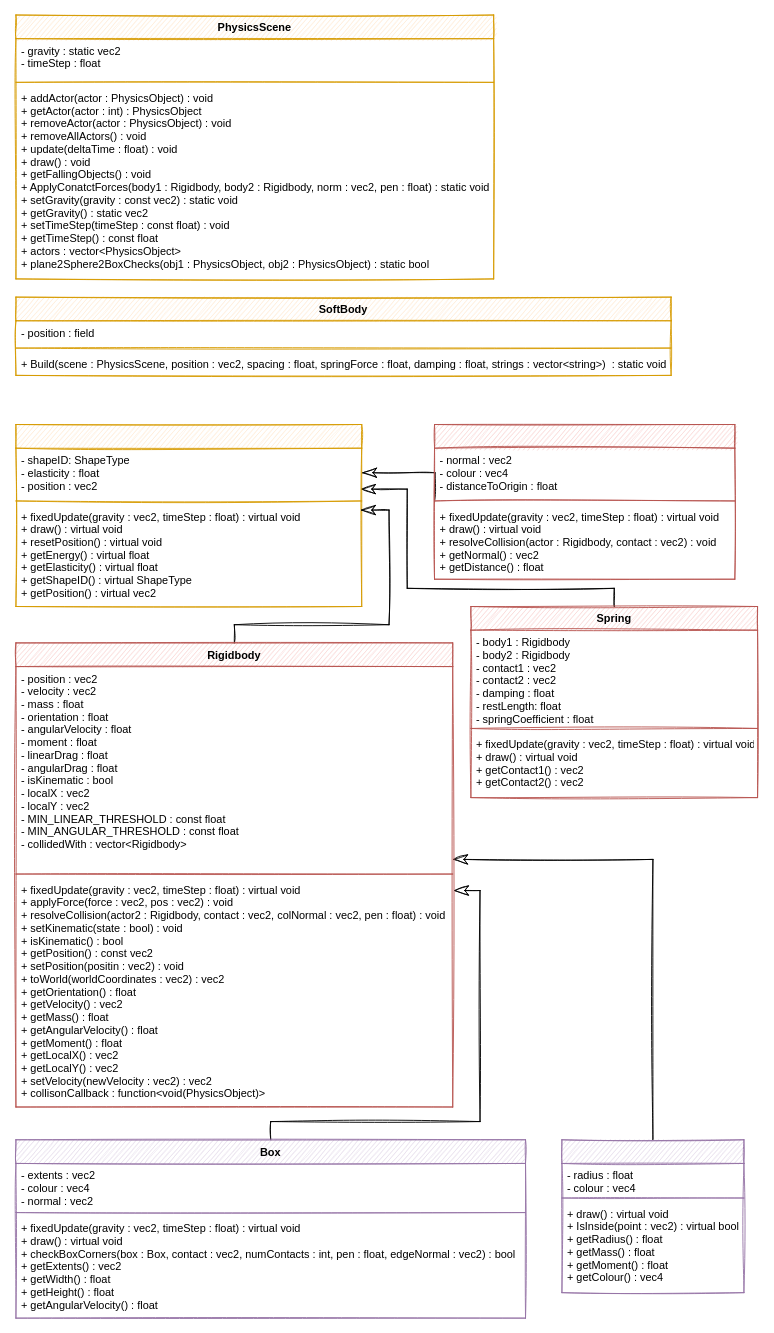
This 774x1333 diagram has some shape labels left out. The box of each missing label's shape, as (x1, y1, x2, y2) in pixels:
PhysicsObject: (15, 424, 362, 607)
Plane: (434, 424, 735, 579)
Sphere: (561, 1139, 744, 1293)
